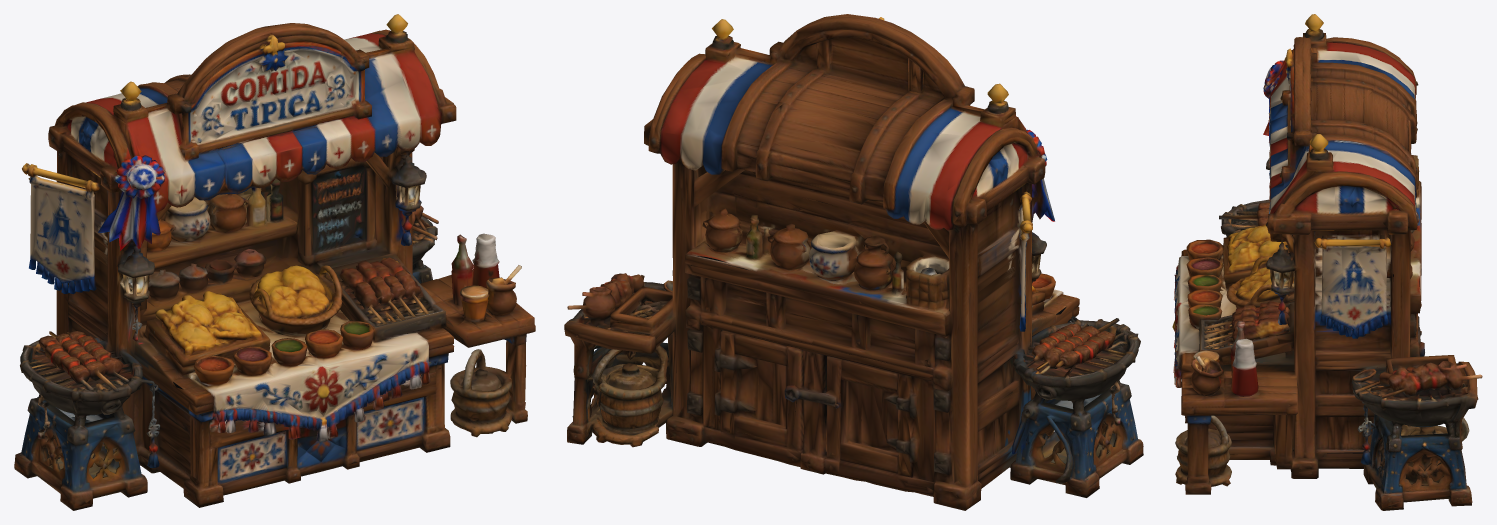
The model's file is comida_tradicional.glb.
The picture shows the model from 3 angles, left to right: view 1: azimuth 30°, elevation 25°; view 2: azimuth 150°, elevation 25°; view 3: azimuth 270°, elevation 25°; orthographic projection. The views are drawn at different scales.
Parts seen in each view (by area): view 1: comida_tradicional; view 2: comida_tradicional; view 3: comida_tradicional.
Boxes of the visible parts, x1,y1,x2,y2 form: comida_tradicional: (14, 14, 535, 510); comida_tradicional: (564, 14, 1143, 510); comida_tradicional: (1172, 14, 1482, 510).
Size of what is drawn, in the model's own units: 2.79 by 2.3 by 1.77.
Materials: 1 (1 with a texture image).
